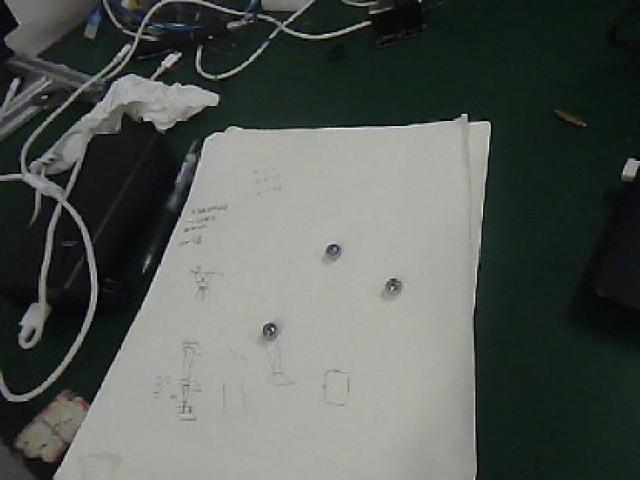steel-ball: (374, 271, 414, 311), (242, 316, 284, 350), (314, 229, 346, 262)
